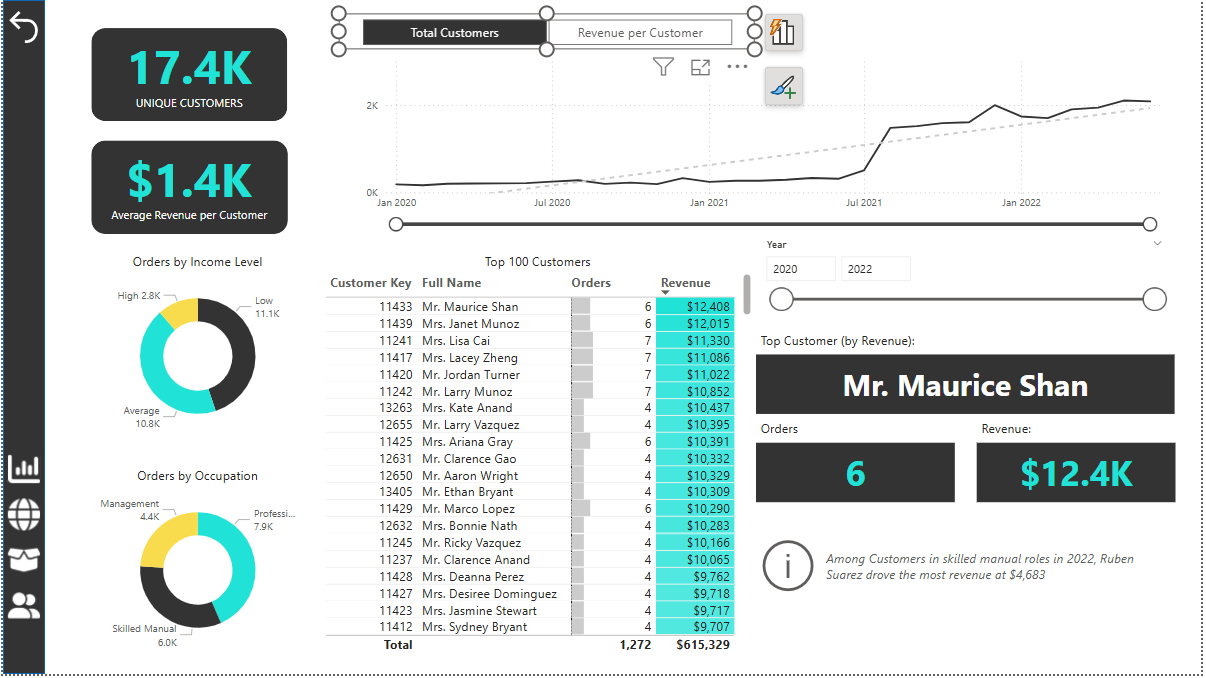

The dashboard page shown, as its layout file describes it:
{"tool":"powerbi","page":{"name":"Customer Detail","canvas":[1280,720],"ordinal":3},"visuals":[{"type":"shape","box":[94.5,150.6,210,100],"z":0},{"type":"actionButton","box":[1.3,527.9,62.3,42.4],"z":0,"group":"g1"},{"type":"shape","box":[0,0,45,719.9],"z":1000},{"type":"actionButton","box":[1.3,576.5,62.3,42.4],"z":1000,"group":"g1"},{"type":"card","fields":{"Values":["Measure Table.Average Revenue per Customer"]},"box":[75.7,142.9,245.7,107.1],"z":2000},{"type":"actionButton","box":[1.3,625.1,62.3,42.4],"z":2000,"group":"g1"},{"type":"shape","box":[94.5,29.6,209.5,99.4],"z":3000},{"type":"actionButton","box":[1.3,479.3,62.3,42.4],"z":3000,"group":"g1"},{"type":"card","fields":{"Values":["Measure Table.Total Customers"]},"box":[75.7,22.9,245.7,107.1],"z":4000},{"type":"lineChart","fields":{"Y":["Measure Table.Average Revenue per Customer"],"Category":["Calendar Lookup.Date Hierarchy.Start of Year","Calendar Lookup.Date Hierarchy.Start of Month","Calendar Lookup.Date Hierarchy.Start of Week","Calendar Lookup.Date Hierarchy.Date"]},"box":[383.1,51.7,868.3,198.9],"z":5000},{"type":"donutChart","title":"Orders by Income Level","fields":{"Category":["Customer Lookup.Income Level"],"Y":["Measure Table.Total Orders"]},"box":[94.3,270,227.1,202.9],"z":6000},{"type":"donutChart","title":"Orders by Occupation","fields":{"Y":["Measure Table.Total Orders"],"Category":["Customer Lookup.Occupation"]},"box":[94.3,498.6,227.1,202.9],"z":7000},{"type":"tableEx","title":"Top 100 Customers","fields":{"Values":["Customer Lookup.CustomerKey","Customer Lookup.Full Name","Measure Table.Total Orders","Measure Table.Total Revenue"]},"box":[338.1,270.4,465.3,430.9],"z":8000},{"type":"card","fields":{"Values":["Customer Lookup.Full Name (Customer Detail)"]},"box":[804.7,378.2,446.8,63.6],"z":9000},{"type":"card","fields":{"Values":["Measure Table.Total Orders (Customer Detail)"]},"box":[804.7,472.8,212.1,63.6],"z":10000},{"type":"card","fields":{"Values":["Measure Table.Total Revenue (Customer Detail)"]},"box":[1039.3,472.8,212.1,63.6],"z":11000},{"type":"textbox","box":[804.7,349,212.1,29.2],"z":12000},{"type":"textbox","box":[1039.3,443.3,212.1,29.2],"z":13000},{"type":"textbox","box":[804.7,443.3,212.1,29.2],"z":14000},{"type":"slicer","fields":{"Values":["Calendar Lookup.Year"]},"box":[803.4,250.6,448.1,88.8],"z":15000},{"type":"actionButton","box":[804.7,570.1,446.8,68.9],"z":16000},{"type":"actionButton","box":[0,5.3,45.1,46.4],"z":17000},{"type":"group","id":"g1","title":"Navigation Buttons","box":[1.3,479.3,62.3,188.2],"z":18000},{"type":"slicer","fields":{"Values":["Customer Metric.Customer Metric"]},"box":[359.3,14.6,444.1,38.4],"z":18501}]}

Visuals, with their boxes on the page's 1280x720 design canvas (x1, y1, x2, y2). These are canvas units, not pixel positions in the 1206x678 screenshot, which may show the page scaled, cropped or inside an application window:
shape: bbox=[94, 151, 304, 251]
actionButton: bbox=[1, 528, 64, 570]
shape: bbox=[0, 0, 45, 720]
actionButton: bbox=[1, 576, 64, 619]
card - Measure Table.Average Revenue per Customer: bbox=[76, 143, 321, 250]
actionButton: bbox=[1, 625, 64, 668]
shape: bbox=[94, 30, 304, 129]
actionButton: bbox=[1, 479, 64, 522]
card - Measure Table.Total Customers: bbox=[76, 23, 321, 130]
lineChart - Measure Table.Average Revenue per Customer x Calendar Lookup.Date Hierarchy.Start of Year: bbox=[383, 52, 1251, 251]
"Orders by Income Level" donutChart: bbox=[94, 270, 321, 473]
"Orders by Occupation" donutChart: bbox=[94, 499, 321, 702]
"Top 100 Customers" tableEx: bbox=[338, 270, 803, 701]
card - Customer Lookup.Full Name (Customer Detail): bbox=[805, 378, 1252, 442]
card - Measure Table.Total Orders (Customer Detail): bbox=[805, 473, 1017, 536]
card - Measure Table.Total Revenue (Customer Detail): bbox=[1039, 473, 1251, 536]
textbox: bbox=[805, 349, 1017, 378]
textbox: bbox=[1039, 443, 1251, 472]
textbox: bbox=[805, 443, 1017, 472]
slicer - Calendar Lookup.Year: bbox=[803, 251, 1252, 339]
actionButton: bbox=[805, 570, 1252, 639]
actionButton: bbox=[0, 5, 45, 52]
"Navigation Buttons" group: bbox=[1, 479, 64, 668]
slicer - Customer Metric.Customer Metric: bbox=[359, 15, 803, 53]
